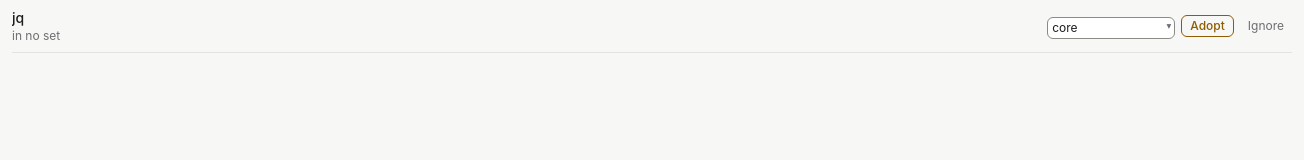
it: Unmanaged › says so rather than showing an empty menu when nothing matches
The width and height of the screenshot is (1304, 160).
Replace the text in the dropdown named "set for jq" with "zzz" at (1111, 28), box 1047,16 -> 1175,38
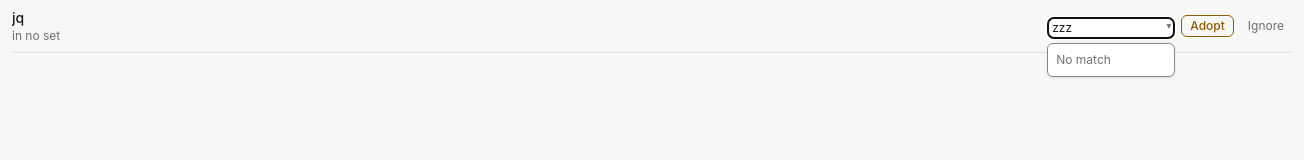
Now no options are shown
Now the list item "No match" is shown, box 1056,52 -> 1111,66
